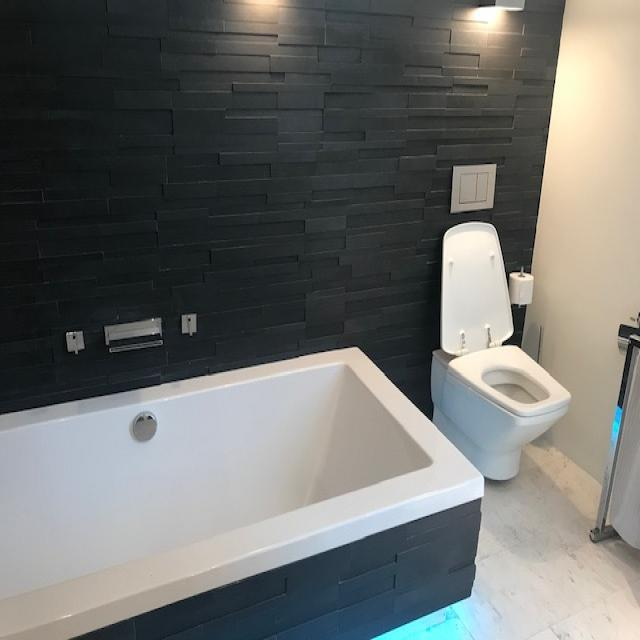bath: (0, 311, 485, 640)
toilet: (430, 158, 572, 482)
